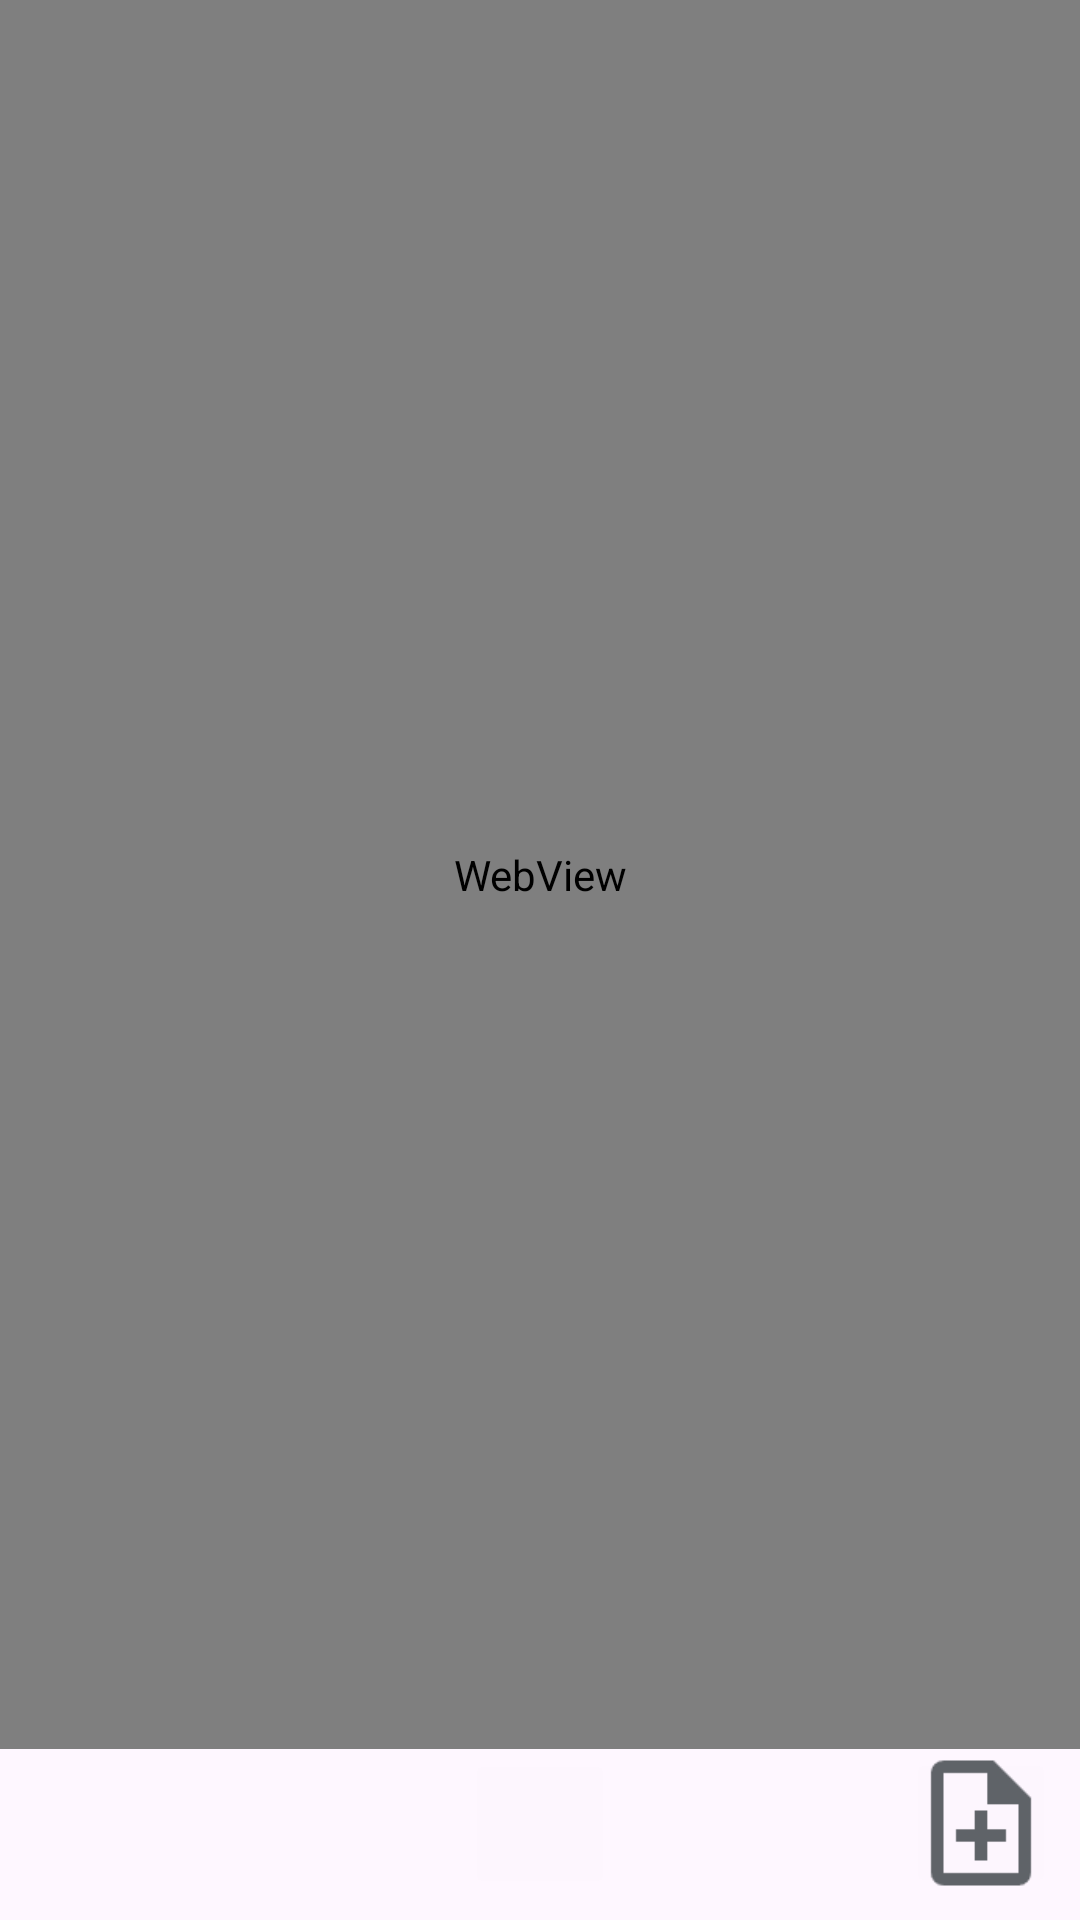

Where to tap for icons on this 1080w x 1920h app screen, as [x,y]:
note add: [981,1823]
